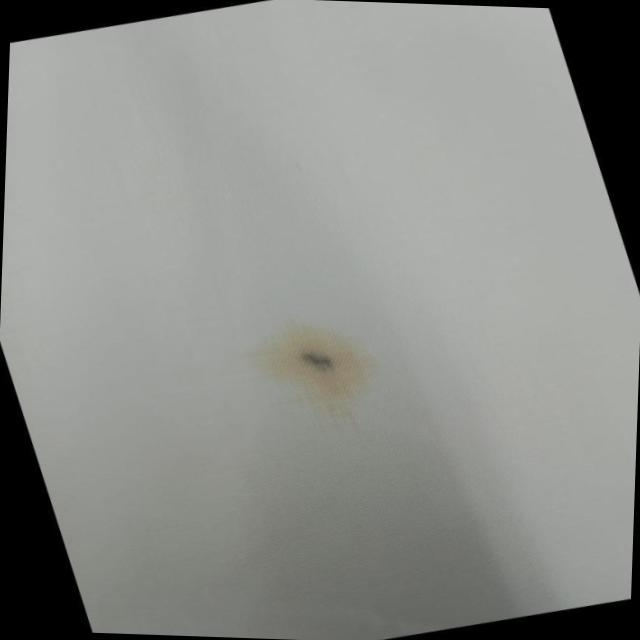stain: (237, 303, 400, 433)
